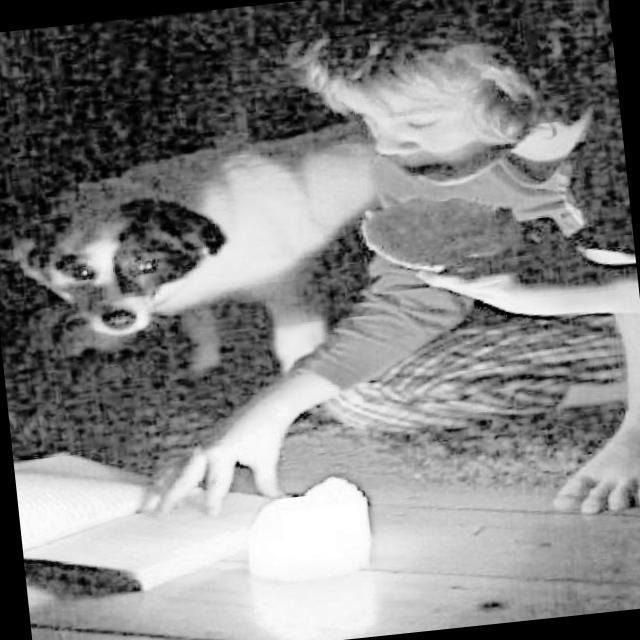Dog: (0, 107, 395, 376)
Person: (95, 0, 640, 566)
